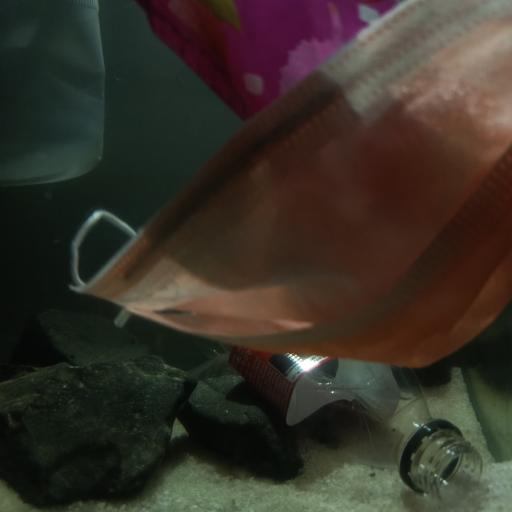mask: (68, 0, 512, 373)
plastic_bottle: (216, 331, 485, 507), (142, 0, 430, 118)
plastic_cup: (0, 0, 105, 182)
